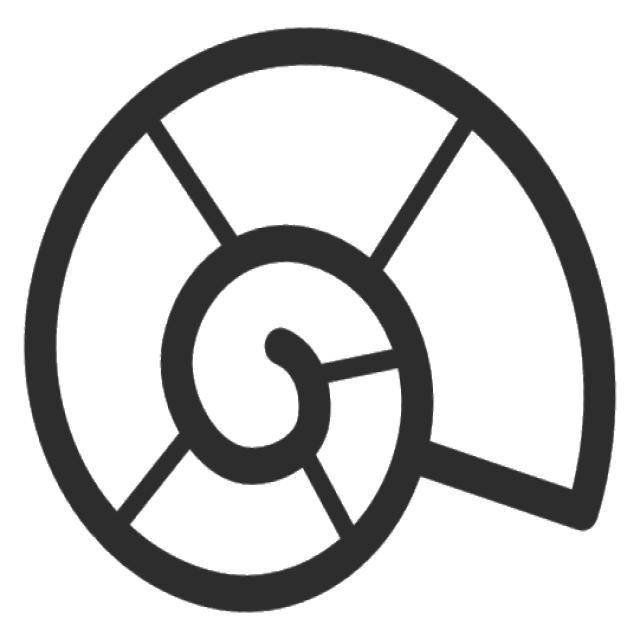fossil: (13, 18, 628, 624)
